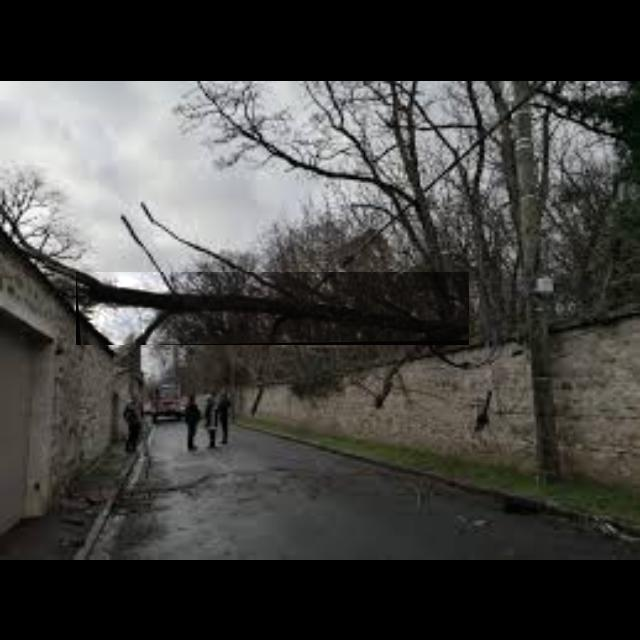Fallen Tree: (76, 272, 470, 346)
